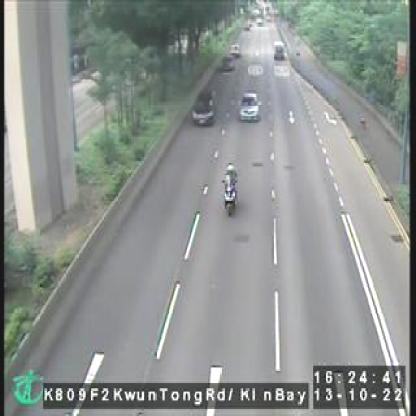Car: (190, 88, 218, 127), (240, 90, 260, 124), (272, 40, 284, 62)
